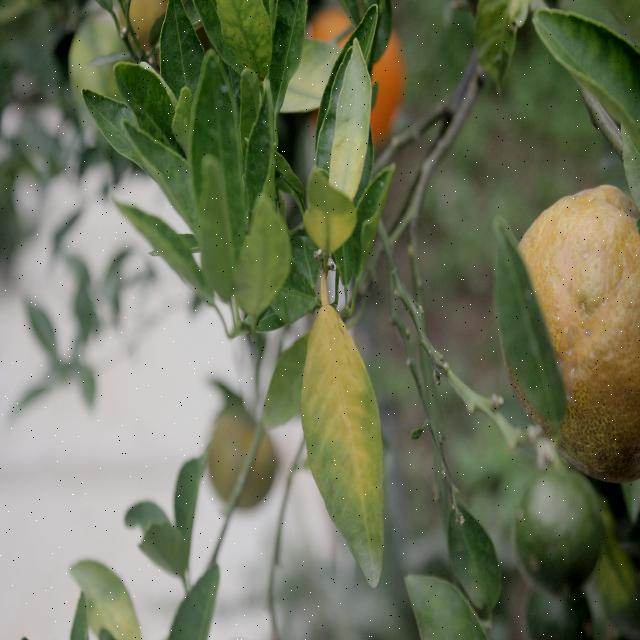greening: (302, 308, 383, 580), (301, 158, 353, 260)
